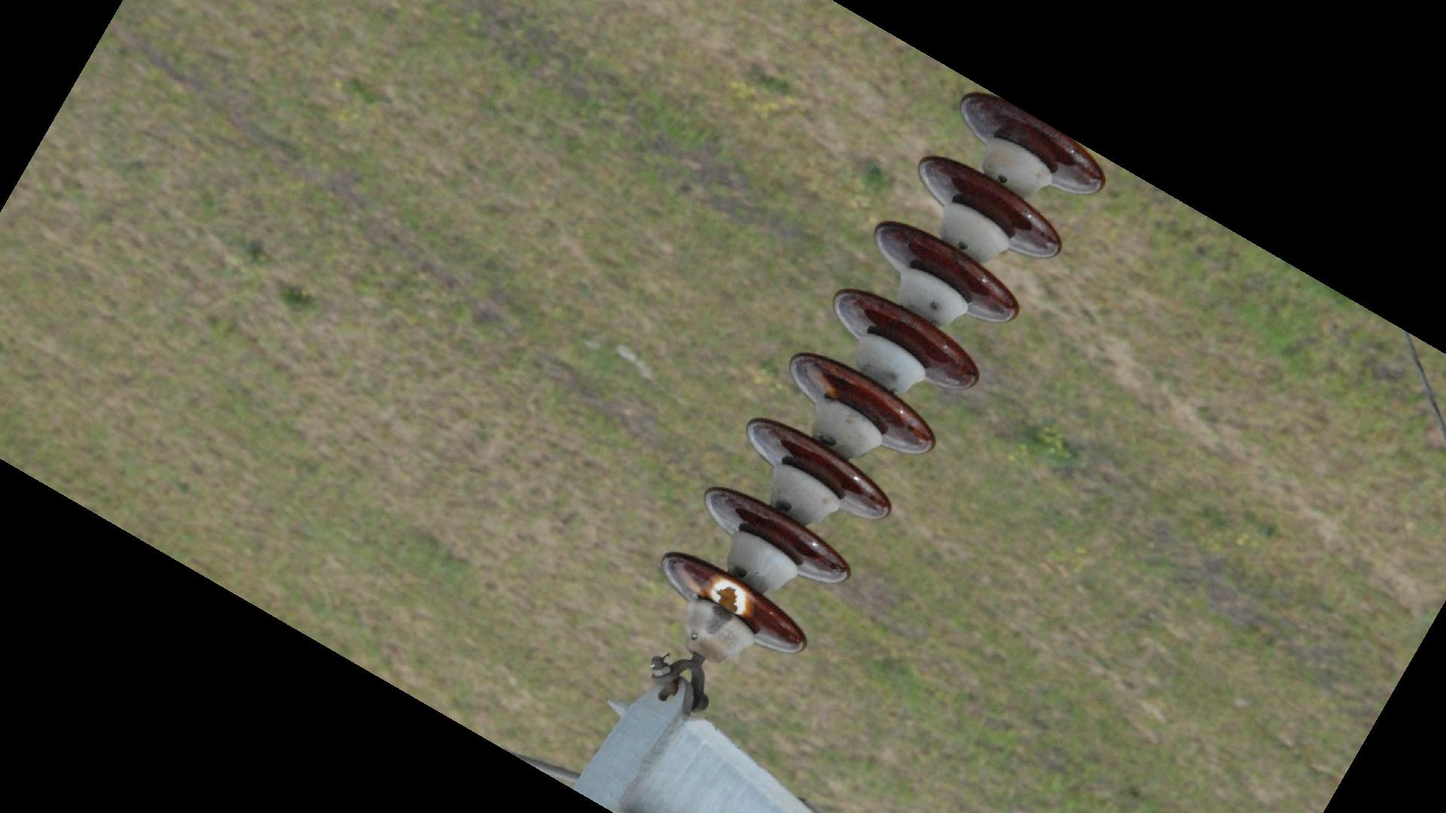insulator: (656, 81, 1114, 661)
insulator_flashover: (708, 576, 752, 619)
